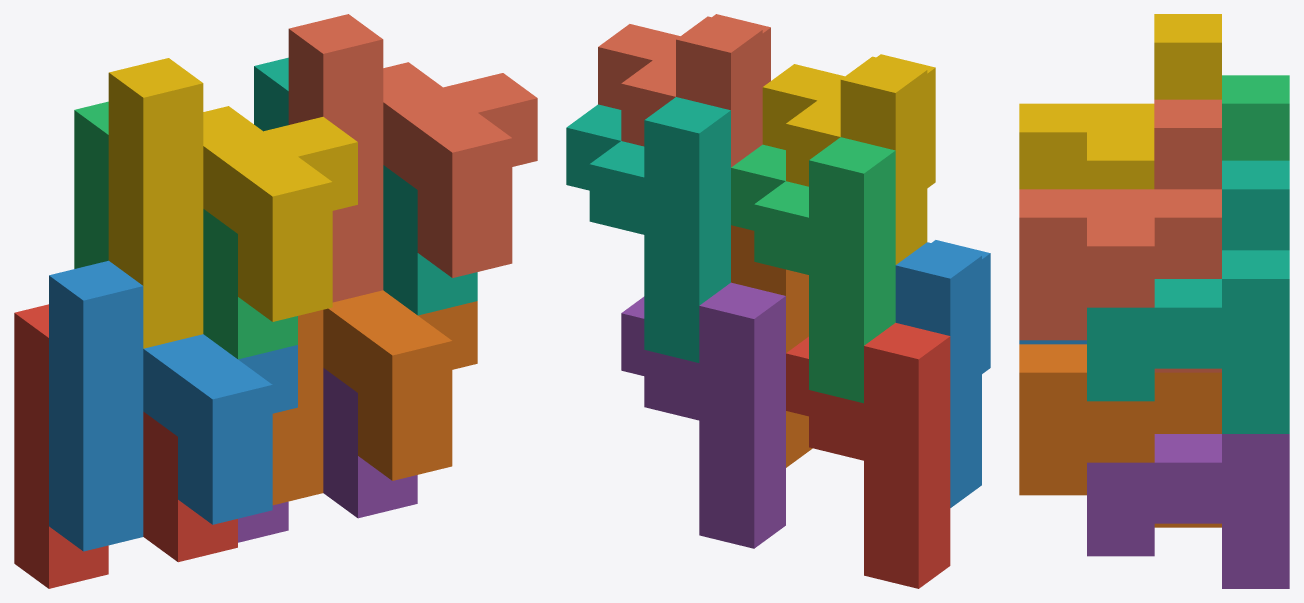
Rendered from tiling.obj.
The picture shows the model from 3 angles, left to right: view 1: azimuth 30°, elevation 25°; view 2: azimuth 150°, elevation 25°; view 3: azimuth 270°, elevation 25°; orthographic projection. The views are drawn at different scales.
Parts seen in each view (by area): view 1: copy_1_domain_4, copy_1_domain_2, copy_1_domain_8, copy_1_domain_6, copy_1_domain_1, copy_1_domain_3, copy_1_domain_7, copy_1_domain_5; view 2: copy_1_domain_7, copy_1_domain_3, copy_1_domain_5, copy_1_domain_1, copy_1_domain_4, copy_1_domain_8, copy_1_domain_2, copy_1_domain_6; view 3: copy_1_domain_7, copy_1_domain_8, copy_1_domain_5, copy_1_domain_6, copy_1_domain_4, copy_1_domain_3.
Part boxes in pixels (x1,y1,x2,y2): copy_1_domain_4: [108, 58, 357, 348]; copy_1_domain_2: [49, 260, 297, 551]; copy_1_domain_8: [288, 14, 537, 302]; copy_1_domain_6: [272, 290, 477, 505]; copy_1_domain_1: [14, 304, 237, 588]; copy_1_domain_3: [74, 101, 297, 359]; copy_1_domain_7: [254, 57, 477, 315]; copy_1_domain_5: [238, 368, 417, 542]; copy_1_domain_7: [566, 97, 730, 362]; copy_1_domain_3: [731, 137, 895, 403]; copy_1_domain_5: [621, 282, 785, 548]; copy_1_domain_1: [786, 322, 950, 588]; copy_1_domain_4: [762, 54, 935, 264]; copy_1_domain_8: [598, 14, 770, 167]; copy_1_domain_2: [895, 240, 990, 507]; copy_1_domain_6: [731, 225, 812, 467]; copy_1_domain_7: [1087, 160, 1289, 433]; copy_1_domain_8: [1019, 99, 1221, 372]; copy_1_domain_5: [1087, 434, 1289, 588]; copy_1_domain_6: [1019, 344, 1221, 527]; copy_1_domain_4: [1019, 14, 1221, 189]; copy_1_domain_3: [1222, 75, 1289, 160].
Bounding box in the file's own units: 7 × 8 × 4.
